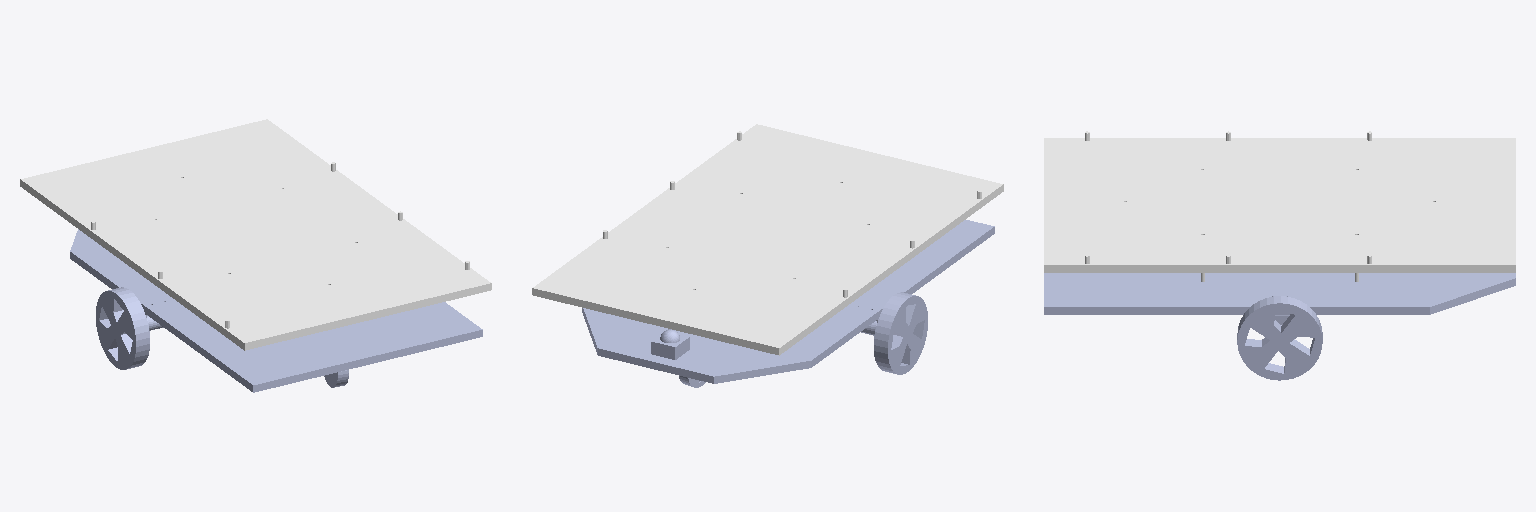
The robot description file, URDF, robot "urdf_1":
<?xml version="1.0" encoding="utf-8"?>
<!-- This URDF was automatically created by SolidWorks to URDF Exporter! Originally created by Stephen Brawner (brawner@gmail.com) 
     Commit Version: 1.6.0-4-g7f85cfe  Build Version: 1.6.7995.38578
     For more information, please see http://wiki.ros.org/sw_urdf_exporter -->
<robot
  name="urdf_1">

  <link
    name="base_footprint">
    <inertial>
      <origin
        xyz="0 0 0"
        rpy="0 0 0" />
      <mass
        value="0" />
      <inertia
        ixx="0"
        ixy="0"
        ixz="0"
        iyy="0"
        iyz="0"
        izz="0" />
    </inertial>
    <visual>
      <origin
        xyz="0 0 0"
        rpy="0 0 0" />
      <geometry>
      </geometry>
      <material
        name="">
        <color
          rgba="1 1 1 1" />
      </material>
    </visual>
    <collision>
      <origin
        xyz="0 0 0"
        rpy="0 0 0" />
      <geometry>
        <mesh
          filename="package://urdf_1/meshes/base_footprint.STL" />
      </geometry>
    </collision>
  </link>
  <joint name="joint_name" type="fixed">
    <origin xyz="0.0 0.0 0.145" rpy="0.0 0.0 0.0"/>
    <parent link="base_footprint"/>
    <child link="base_link"/>
    <axis xyz="0.0 0.0 0.0"/>
    <limit lower="0.0" upper="0.0" effort="0.0" velocity="0.0"/>
  </joint>

  <link
    name="base_link">
    <inertial>
      <origin
        xyz="2.7676E-17 -6.9095E-07 0.022647"
        rpy="0 0 0" />
      <mass
        value="13.655" />
      <inertia
        ixx="1.2842"
        ixy="5.5738E-19"
        ixz="2.8429E-17"
        iyy="1.7389"
        iyz="8.4662E-07"
        izz="0.45554" />
    </inertial>
    <visual>
      <origin
        xyz="0 0 0"
        rpy="0 0 0" />
      <geometry>
        <mesh
          filename="package://urdf_1/meshes/base_link.STL" />
      </geometry>
      <material
        name="">
        <color
          rgba="0.79216 0.81961 0.93333 1" />
      </material>
    </visual>
    <collision>
      <origin
        xyz="0 0 0"
        rpy="0 0 0" />
      <geometry>
        <mesh
          filename="package://urdf_1/meshes/base_link.STL" />
      </geometry>
    </collision>
  </link>
  <link
    name="Link_R_motor">
    <inertial>
      <origin
        xyz="-1.6267E-16 0.0040603 -0.0022725"
        rpy="0 0 0" />
      <mass
        value="0.16764" />
      <inertia
        ixx="0.00018103"
        ixy="-1.8792E-18"
        ixz="3.5751E-21"
        iyy="4.2194E-05"
        iyz="-3.8785E-06"
        izz="0.0001792" />
    </inertial>
    <visual>
      <origin
        xyz="0 0 0"
        rpy="0 0 0" />
      <geometry>
        <mesh
          filename="package://urdf_1/meshes/Link_R_motor.STL" />
      </geometry>
      <material
        name="">
        <color
          rgba="0.79216 0.81961 0.93333 1" />
      </material>
    </visual>
    <collision>
      <origin
        xyz="0 0 0"
        rpy="0 0 0" />
      <geometry>
        <mesh
          filename="package://urdf_1/meshes/Link_R_motor.STL" />
      </geometry>
    </collision>
  </link>
  <joint
    name="Joint_R_motor"
    type="fixed">
    <origin
      xyz="0.268 0 -0.0459999999999998"
      rpy="-3.14159265358978 0 1.5707963267949" />
    <parent
      link="base_link" />
    <child
      link="Link_R_motor" />
    <axis
      xyz="0 0 0" />
  </joint>
  <link
    name="Link_R_wheel">
    <inertial>
      <origin
        xyz="-0.0524780676109808 1.41206490944512E-15 2.84494650060196E-16"
        rpy="0 0 0" />
      <mass
        value="0.988887196728421" />
      <inertia
        ixx="0.00522963361106489"
        ixy="-3.89076829271372E-17"
        ixz="-1.03118823978009E-17"
        iyy="0.00276138890364012"
        iyz="3.79470760369927E-19"
        izz="0.00276138890364011" />
    </inertial>
    <visual>
      <origin
        xyz="0 0 0"
        rpy="0 0 0" />
      <geometry>
        <mesh
          filename="package://urdf_1/meshes/Link_R_wheel.STL" />
      </geometry>
      <material
        name="">
        <color
          rgba="0.792156862745098 0.819607843137255 0.933333333333333 1" />
      </material>
    </visual>
    <collision>
      <origin
        xyz="0 0 0"
        rpy="0 0 0" />
      <geometry>
        <mesh
          filename="package://urdf_1/meshes/Link_R_wheel.STL" />
      </geometry>
    </collision>
  </link>
  <joint
    name="Joint_R_wheel"
    type="continuous">
    <origin
      xyz="0 0.0560000000000009 0"
      rpy="-0.31374961603542 0 -1.57079632679489" />
    <parent
      link="Link_R_motor" />
    <child
      link="Link_R_wheel" />
    <axis
      xyz="1 0 0" />
  </joint>
  <link
    name="Link_L_motor">
    <inertial>
      <origin
        xyz="-1.0996539736511E-16 0.00406025821830519 -0.00227245855211405"
        rpy="0 0 0" />
      <mass
        value="0.167637868322072" />
      <inertia
        ixx="0.000181028175947113"
        ixy="-1.84699862136097E-18"
        ixz="-1.07277063325001E-21"
        iyy="4.21942535582781E-05"
        iyz="-3.87849424261692E-06"
        izz="0.000179196693722463" />
    </inertial>
    <visual>
      <origin
        xyz="0 0 0"
        rpy="0 0 0" />
      <geometry>
        <mesh
          filename="package://urdf_1/meshes/Link_L_motor.STL" />
      </geometry>
      <material
        name="">
        <color
          rgba="0.792156862745098 0.819607843137255 0.933333333333333 1" />
      </material>
    </visual>
    <collision>
      <origin
        xyz="0 0 0"
        rpy="0 0 0" />
      <geometry>
        <mesh
          filename="package://urdf_1/meshes/Link_L_motor.STL" />
      </geometry>
    </collision>
  </link>
  <joint
    name="Joint_L_motor"
    type="fixed">
    <origin
      xyz="-0.268 0 -0.0459999999999998"
      rpy="3.14159265358978 0 -1.5707963267949" />
    <parent
      link="base_link" />
    <child
      link="Link_L_motor" />
    <axis
      xyz="0 0 0" />
  </joint>
  <link
    name="Link_L_wheel">
    <inertial>
      <origin
        xyz="-0.0524780676109834 -8.88178419700125E-16 1.02869102125425E-15"
        rpy="0 0 0" />
      <mass
        value="0.988887196728421" />
      <inertia
        ixx="0.00522963361106489"
        ixy="3.39193652544587E-17"
        ixz="-2.62899669607534E-17"
        iyy="0.00276138890364012"
        iyz="7.58941520739853E-19"
        izz="0.00276138890364012" />
    </inertial>
    <visual>
      <origin
        xyz="0 0 0"
        rpy="0 0 0" />
      <geometry>
        <mesh
          filename="package://urdf_1/meshes/Link_L_wheel.STL" />
      </geometry>
      <material
        name="">
        <color
          rgba="0.792156862745098 0.819607843137255 0.933333333333333 1" />
      </material>
    </visual>
    <collision>
      <origin
        xyz="0 0 0"
        rpy="0 0 0" />
      <geometry>
        <mesh
          filename="package://urdf_1/meshes/Link_L_wheel.STL" />
      </geometry>
    </collision>
  </link>
  <joint
    name="Joint_L_wheel"
    type="continuous">
    <origin
      xyz="0 0.056 0"
      rpy="-1.85 0 -1.5708" />
    <parent
      link="Link_L_motor" />
    <child
      link="Link_L_wheel" />
    <axis
      xyz="1 0 0" />
  </joint>
  <link
    name="Link_F_holder">
    <inertial>
      <origin
        xyz="-3.52357032440409E-14 -0.025560777699365 -0.00438193461397363"
        rpy="0 0 0" />
      <mass
        value="0.0344907923602774" />
      <inertia
        ixx="2.06039975739628E-05"
        ixy="1.59882042306095E-20"
        ixz="-1.20702194983738E-20"
        iyy="1.93437594179329E-05"
        iyz="-3.94518025362099E-06"
        izz="2.76356519539093E-05" />
    </inertial>
    <visual>
      <origin
        xyz="0 0 0"
        rpy="0 0 0" />
      <geometry>
        <mesh
          filename="package://urdf_1/meshes/Link_F_holder.STL" />
      </geometry>
      <material
        name="">
        <color
          rgba="0.792156862745098 0.819607843137255 0.933333333333333 1" />
      </material>
    </visual>
    <collision>
      <origin
        xyz="0 0 0"
        rpy="0 0 0" />
      <geometry>
        <mesh
          filename="package://urdf_1/meshes/Link_F_holder.STL" />
      </geometry>
    </collision>
  </link>
  <joint
    name="Joint_F_holder"
    type="continuous">
    <origin
      xyz="0 0.375 -0.0075"
      rpy="1.5708 0 2.9968" />
    <parent
      link="base_link" />
    <child
      link="Link_F_holder" />
    <axis
      xyz="0 1 0" />
  </joint>
  <link
    name="Link_F_caster">
    <inertial>
      <origin
        xyz="-0.0607530804496581 0.0400258699850806 -1.45267227477097E-05"
        rpy="0 0 0" />
      <mass
        value="0.236379485864502" />
      <inertia
        ixx="0.000165153337888593"
        ixy="-1.13322170301318E-07"
        ixz="-6.48251882177358E-08"
        iyy="0.000165209378330049"
        iyz="8.30611756546866E-08"
        izz="0.000294295206204224" />
    </inertial>
    <visual>
      <origin
        xyz="0 0 0"
        rpy="0 0 0" />
      <geometry>
        <mesh
          filename="package://urdf_1/meshes/Link_F_caster.STL" />
      </geometry>
      <material
        name="">
        <color
          rgba="0.792156862745098 0.819607843137255 0.933333333333333 1" />
      </material>
    </visual>
    <collision>
      <origin
        xyz="0 0 0"
        rpy="0 0 0" />
      <geometry>
        <mesh
          filename="package://urdf_1/meshes/Link_F_caster.STL" />
      </geometry>
    </collision>
  </link>
  <joint
    name="Joint_F_caster"
    type="continuous">
    <origin
      xyz="0 0 0"
      rpy="1.5708 -0.81844 1.5708" />
    <parent
      link="Link_F_holder" />
    <child
      link="Link_F_caster" />
    <axis
      xyz="0 0 1" />
  </joint>
  <link
    name="Link_B_holder">
    <inertial>
      <origin
        xyz="3.84831055910695E-14 -0.025560777699365 -0.00438193461398861"
        rpy="0 0 0" />
      <mass
        value="0.0344907923602774" />
      <inertia
        ixx="2.06039975739628E-05"
        ixy="1.99010099955085E-20"
        ixz="3.3881317890172E-21"
        iyy="1.93437594179329E-05"
        iyz="-3.94518025362094E-06"
        izz="2.76356519539093E-05" />
    </inertial>
    <visual>
      <origin
        xyz="0 0 0"
        rpy="0 0 0" />
      <geometry>
        <mesh
          filename="package://urdf_1/meshes/Link_B_holder.STL" />
      </geometry>
      <material
        name="">
        <color
          rgba="0.792156862745098 0.819607843137255 0.933333333333333 1" />
      </material>
    </visual>
    <collision>
      <origin
        xyz="0 0 0"
        rpy="0 0 0" />
      <geometry>
        <mesh
          filename="package://urdf_1/meshes/Link_B_holder.STL" />
      </geometry>
    </collision>
  </link>
  <joint
    name="Joint_B_holder"
    type="continuous">
    <origin
      xyz="0 -0.375 -0.0075"
      rpy="1.5708 0 3.0317" />
    <parent
      link="base_link" />
    <child
      link="Link_B_holder" />
    <axis
      xyz="0 1 0" />
  </joint>
  <link
    name="Link_B_caster">
    <inertial>
      <origin
        xyz="0.0558471858628283 0.011786899423349 -1.45267227477028E-05"
        rpy="0 0 0" />
      <mass
        value="0.236379485864501" />
      <inertia
        ixx="0.000165153337888593"
        ixy="-1.13322170301249E-07"
        ixz="-6.48251882177006E-08"
        iyy="0.000165209378330049"
        iyz="8.30611756546391E-08"
        izz="0.000294295206204224" />
    </inertial>
    <visual>
      <origin
        xyz="0 0 0"
        rpy="0 0 0" />
      <geometry>
        <mesh
          filename="package://urdf_1/meshes/Link_B_caster.STL" />
      </geometry>
      <material
        name="">
        <color
          rgba="0.792156862745098 0.819607843137255 0.933333333333333 1" />
      </material>
    </visual>
    <collision>
      <origin
        xyz="0 0 0"
        rpy="0 0 0" />
      <geometry>
        <mesh
          filename="package://urdf_1/meshes/Link_B_caster.STL" />
      </geometry>
    </collision>
  </link>
  <joint
    name="Joint_B_caster"
    type="continuous">
    <origin
      xyz="0 -0.016298 0"
      rpy="-1.5708 0.094002 -1.5708" />
    <parent
      link="Link_B_holder" />
    <child
      link="Link_B_caster" />
    <axis
      xyz="0 0 1" />
  </joint>
  <link
    name="Link_laser">
    <inertial>
      <origin
        xyz="6.04236390401587E-09 0.00405882035841088 3.24830731257553E-07"
        rpy="0 0 0" />
      <mass
        value="0.201875516239374" />
      <inertia
        ixx="0.00011030851717415"
        ixy="-1.4477084477744E-11"
        ixz="-2.49911306088135E-11"
        iyy="0.000147313391528108"
        iyz="-7.69696051742169E-10"
        izz="0.000110306425407583" />
    </inertial>
    <visual>
      <origin
        xyz="0 0 0"
        rpy="0 0 0" />
      <geometry>
        <mesh
          filename="package://urdf_1/meshes/Link_laser.STL" />
      </geometry>
      <material
        name="">
        <color
          rgba="0.792156862745098 0.819607843137255 0.933333333333333 1" />
      </material>
    </visual>
    <collision>
      <origin
        xyz="0 0 0"
        rpy="0 0 0" />
      <geometry>
        <mesh
          filename="package://urdf_1/meshes/Link_laser.STL" />
      </geometry>
    </collision>
  </link>
  <joint
    name="Joint_laser"
    type="fixed">
    <origin
      xyz="0 0.48 0.0275"
      rpy="1.5708 0 0" />
    <parent
      link="base_link" />
    <child
      link="Link_laser" />
    <axis
      xyz="0 0 0" />
  </joint>
  <link
    name="Link_up_borad">
    <inertial>
      <origin
        xyz="0 0 0"
        rpy="0 0 0" />
      <mass
        value="0" />
      <inertia
        ixx="0"
        ixy="0"
        ixz="0"
        iyy="0"
        iyz="0"
        izz="0" />
    </inertial>
    <visual>
      <origin
        xyz="0 0 0"
        rpy="0 0 0" />
      <geometry>
        <mesh
          filename="package://urdf_1/meshes/Link_up_borad.STL" />
      </geometry>
      <material
        name="">
        <color
          rgba="1 1 1 1" />
      </material>
    </visual>
    <collision>
      <origin
        xyz="0 0 0"
        rpy="0 0 0" />
      <geometry>
        <mesh
          filename="package://urdf_1/meshes/Link_up_borad.STL" />
      </geometry>
    </collision>
  </link>
  <joint
    name="Joint_up_board"
    type="continuous">
    <origin
      xyz="0 -0.36 0.01"
      rpy="1.5707963267949 0 0" />
    <parent
      link="base_link" />
    <child
      link="Link_up_borad" />
    <axis
      xyz="0 1 0" />
  </joint>
</robot>

--- What the picture shows (computed from the rendered views, not written in the file) ---
3 views of the same robot in one strip: view 1: azimuth 30°, elevation 25°; view 2: azimuth 150°, elevation 25°; view 3: azimuth 270°, elevation 25° (orthographic).
Model urdf_1 with 12 links and 11 joints (7 continuous, 4 fixed), rooted at base_footprint, posed all joints at 0.
Visible links, largest first — view 1: Link_up_borad, base_link, Link_L_wheel; view 2: Link_up_borad, base_link, Link_L_wheel, Link_laser; view 3: Link_up_borad, base_link, Link_R_wheel.
Link boxes in pixels (<box>): Link_up_borad: <box>20,119,491,350</box>; base_link: <box>70,229,482,392</box>; Link_L_wheel: <box>96,287,149,369</box>; Link_up_borad: <box>532,124,1003,355</box>; base_link: <box>582,220,994,383</box>; Link_L_wheel: <box>874,292,927,374</box>; Link_laser: <box>651,329,689,359</box>; Link_up_borad: <box>1044,131,1515,281</box>; base_link: <box>1044,273,1515,314</box>; Link_R_wheel: <box>1237,296,1322,380</box>.
Bounding box of the posed robot: 0.794 × 1.1 × 0.2956 m (x, y, z).
Meshes: 11 distinct files referenced, 11 mesh visuals loaded (11 binary STL).
